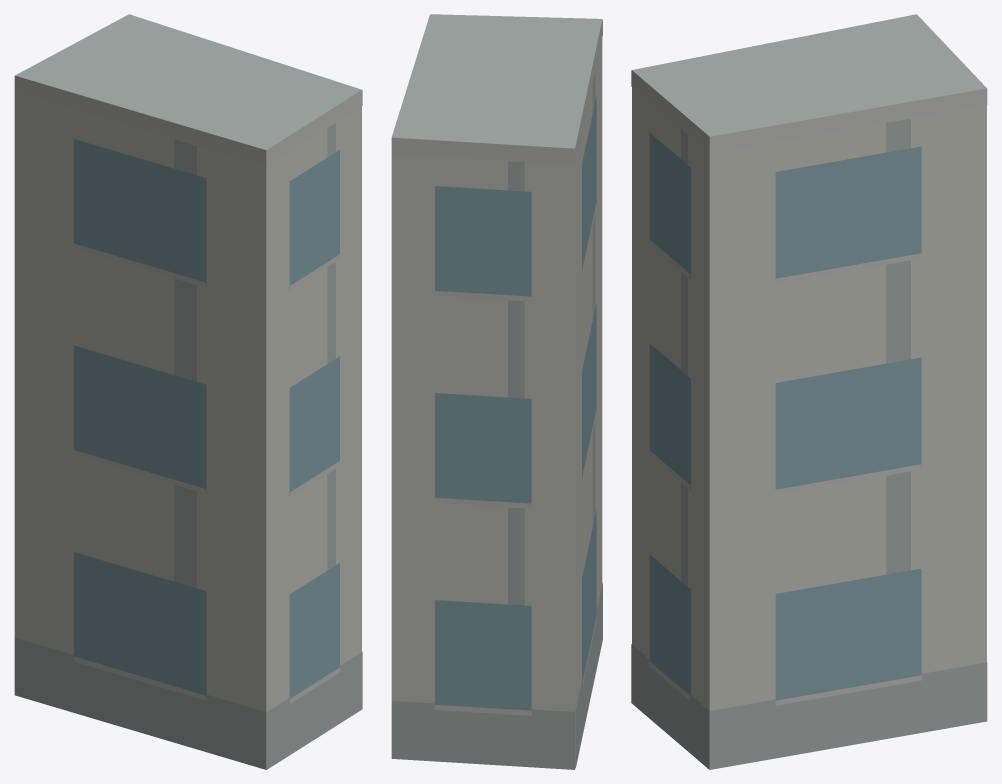
Rendered from survey-upis-32521250.glb.
The picture shows the model from 3 angles, left to right: view 1: azimuth 30°, elevation 25°; view 2: azimuth 150°, elevation 25°; view 3: azimuth 270°, elevation 25°; orthographic projection. The views are drawn at different scales.
Visible parts, largest first — view 1: survey-upis-32521250.tmp; view 2: survey-upis-32521250.tmp; view 3: survey-upis-32521250.tmp.
Boxes of the visible parts, x1,y1,x2,y2 form: survey-upis-32521250.tmp: [14, 14, 362, 769]; survey-upis-32521250.tmp: [391, 14, 602, 769]; survey-upis-32521250.tmp: [631, 14, 987, 769].
Bounding box in the file's own units: 3.81 × 9.15 × 4.66.
